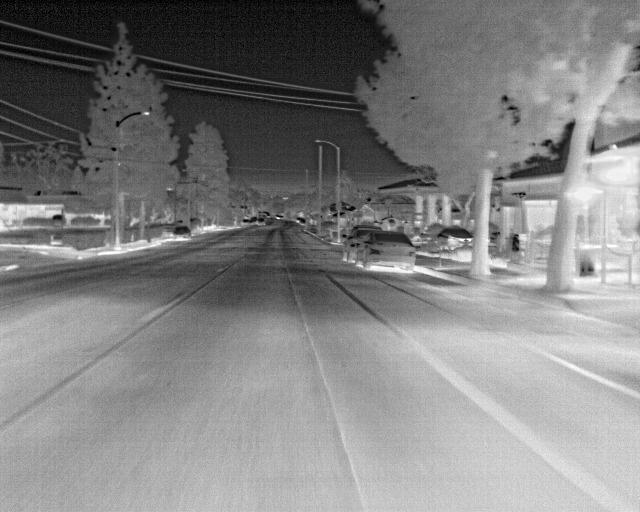bicycle: (353, 229, 417, 270), (340, 228, 368, 264), (435, 227, 473, 241), (172, 225, 191, 241), (239, 217, 252, 229), (248, 216, 259, 227), (257, 216, 265, 227)
